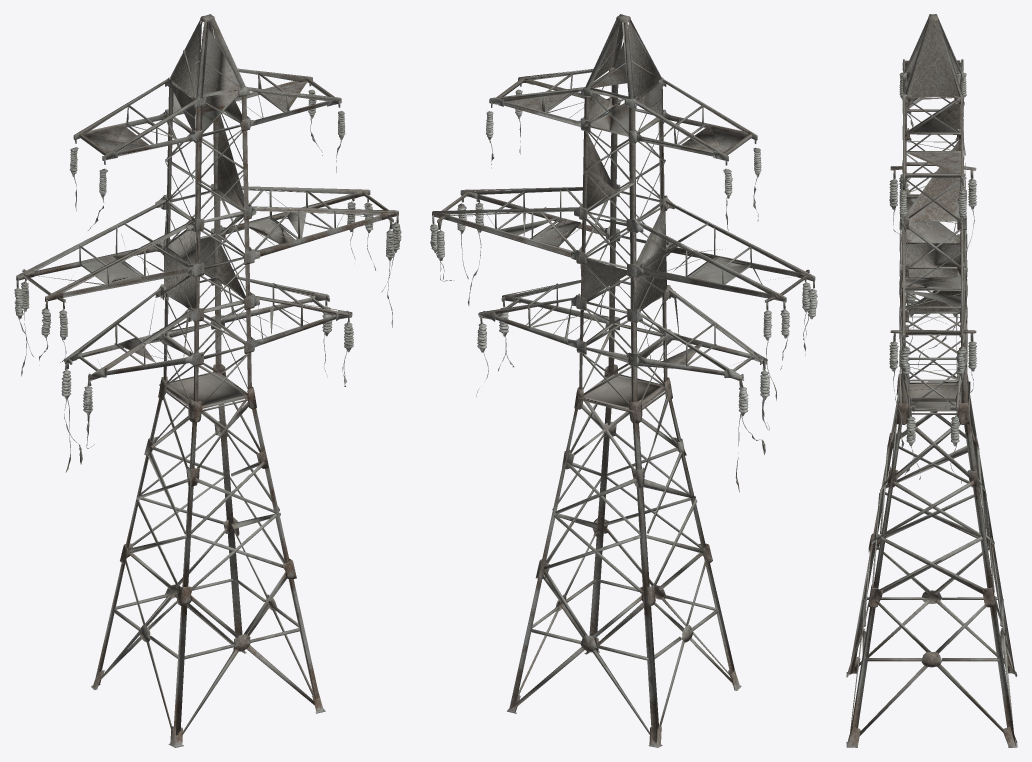
The model's file is road_power_pylon.glb.
3 renders of one model, left to right at view 1: azimuth 30°, elevation 25°; view 2: azimuth 150°, elevation 25°; view 3: azimuth 270°, elevation 25°, orthographic.
Bounding box in the file's own units: 0.522 × 0.9512 × 0.2134.
1 material, 1 textured.
